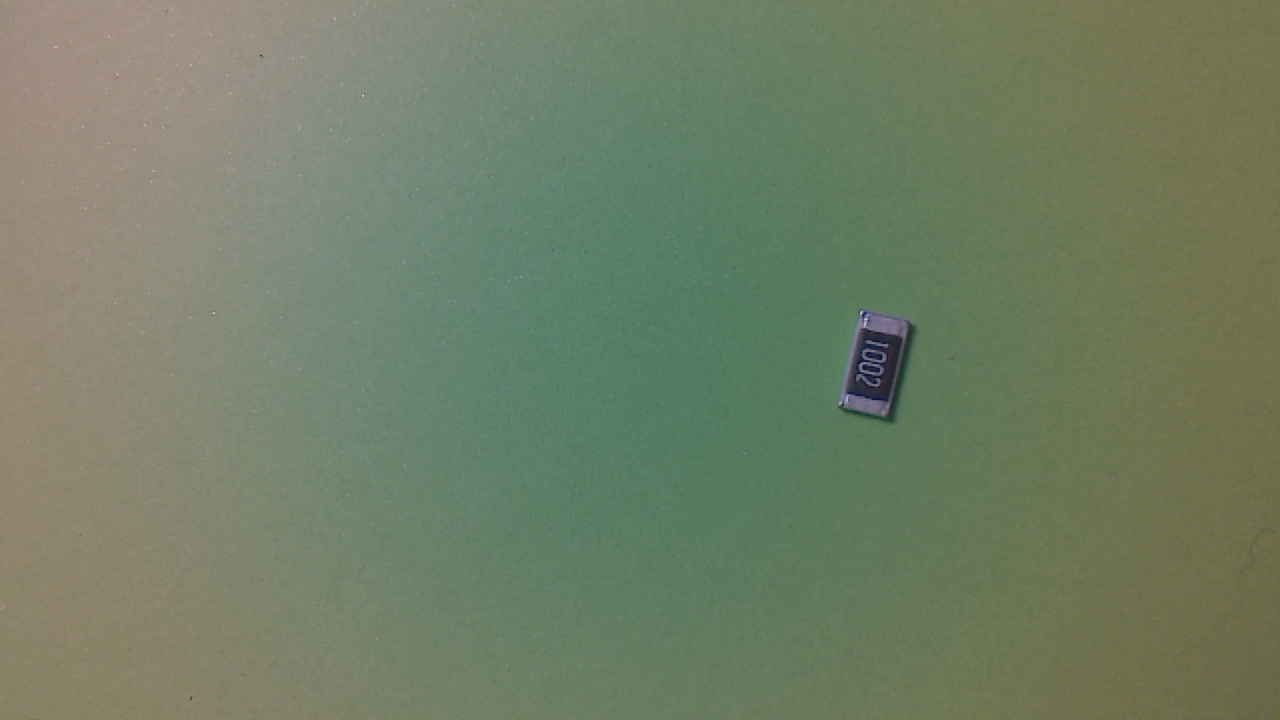Resistor: (834, 311, 925, 432)
